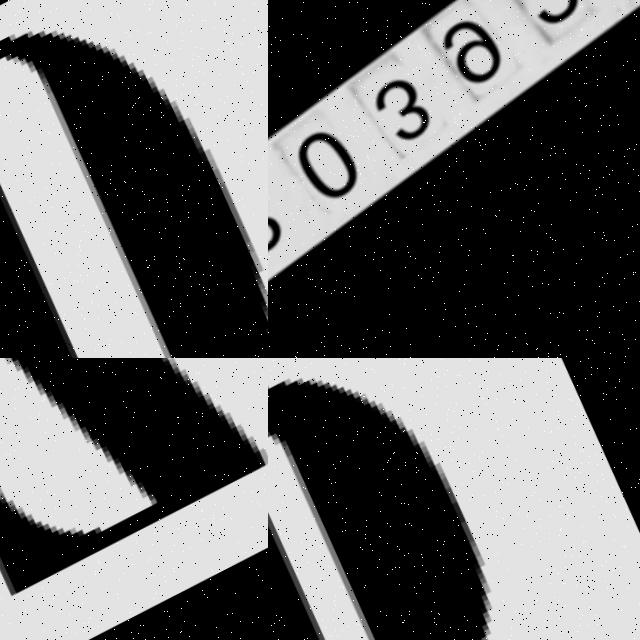0: (272, 108, 389, 232)
2: (495, 0, 601, 51)
3: (354, 59, 457, 170)
6: (268, 358, 630, 640)
8: (268, 166, 311, 286)
9: (418, 0, 530, 116)
Z: (0, 358, 268, 620)
